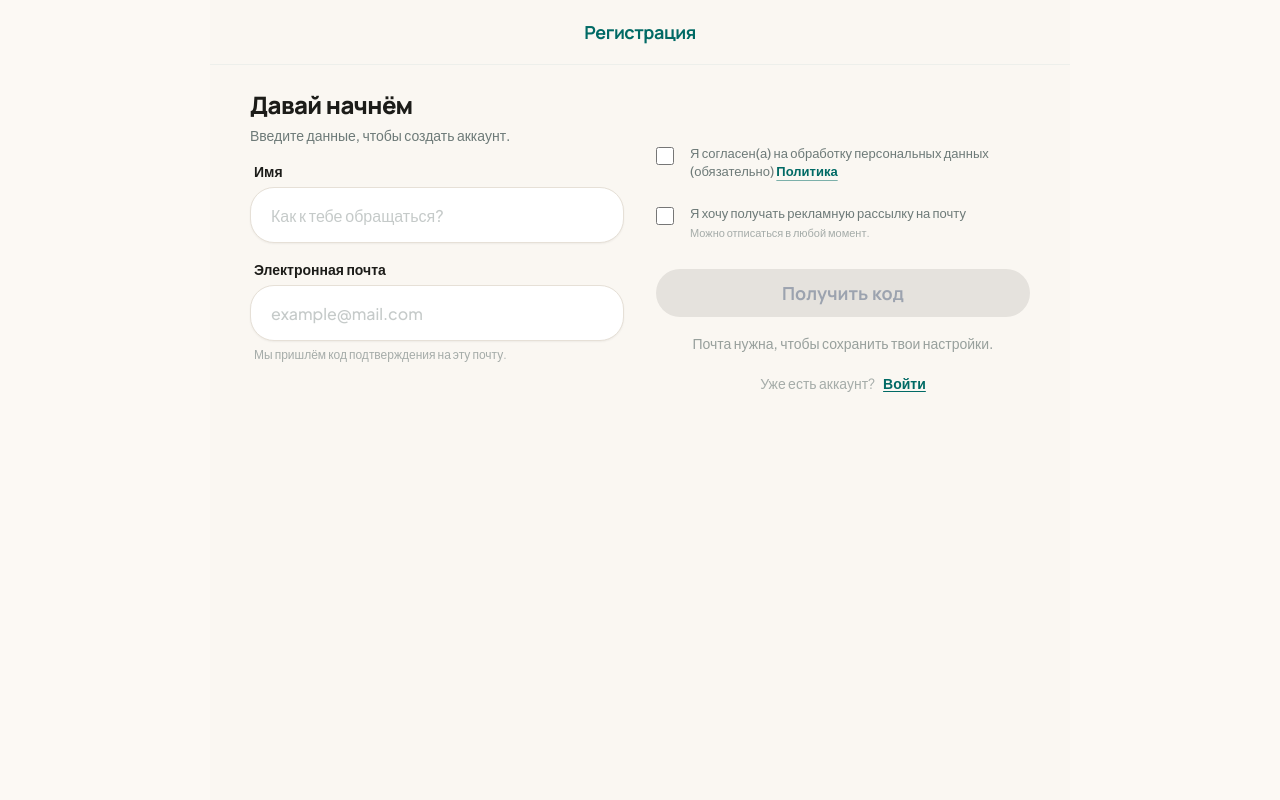
Test: RegistrationPage Android registration flow › explains how to enter the existing owner test account
In the field labelled "Электронная почта": (437, 313) [250,285,624,341], type "MUKANISKANDER01@gmail.com"
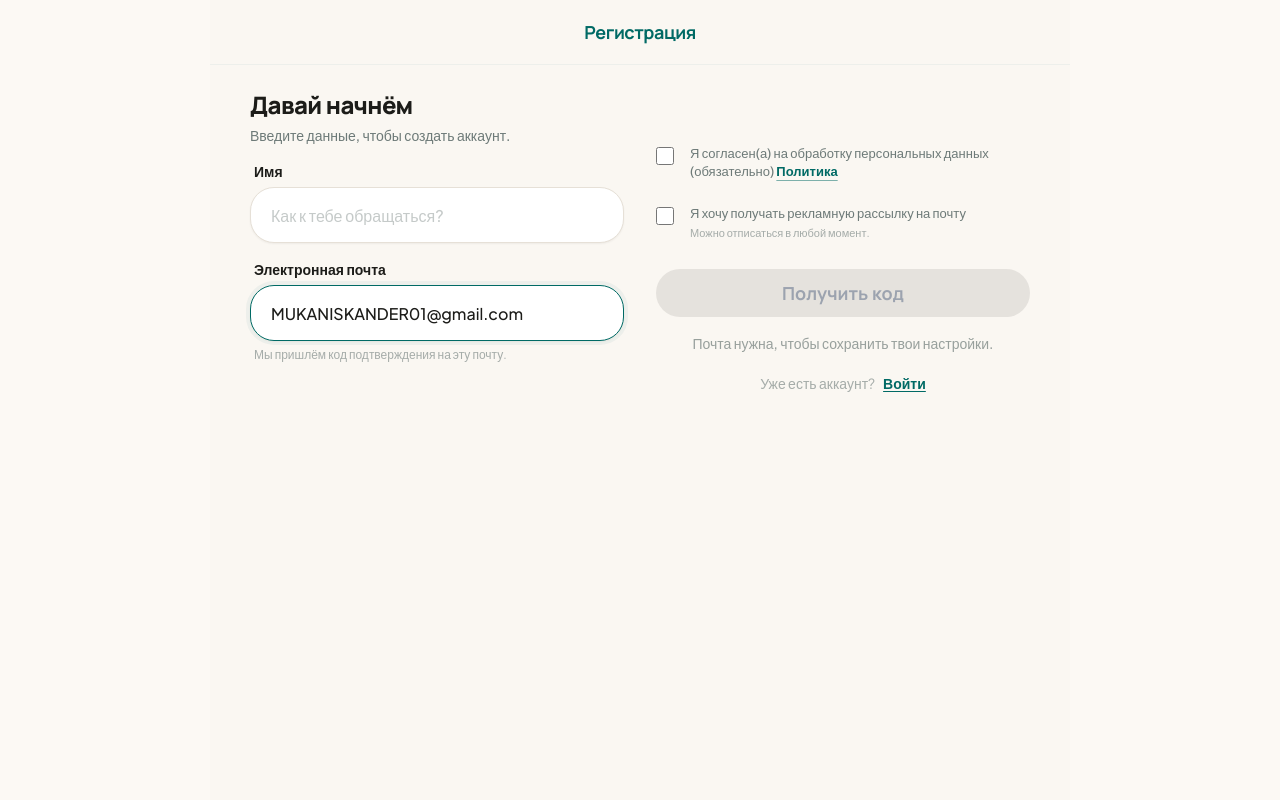
Click the checkbox labelled "Я согласен": click(665, 156) [656,147,674,165]
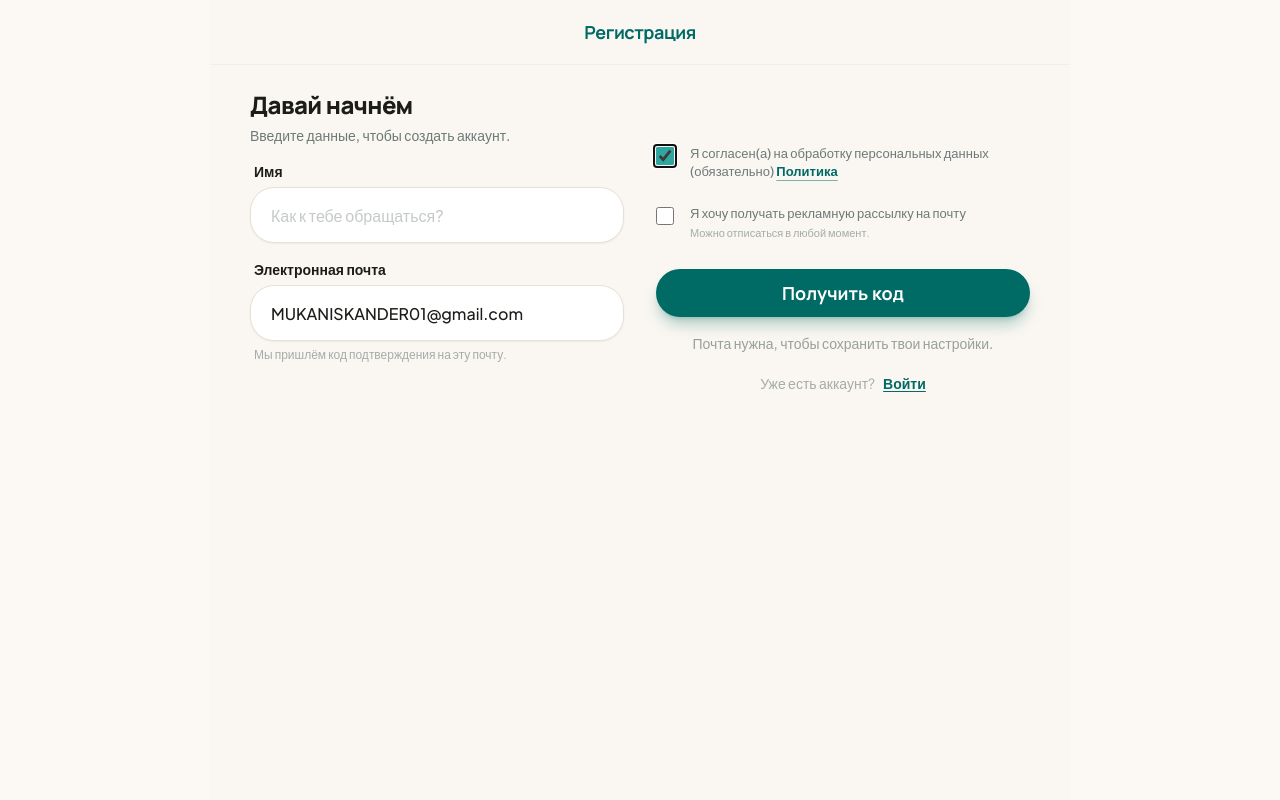
Click the button "Получить код": click(843, 293) [656,269,1030,317]
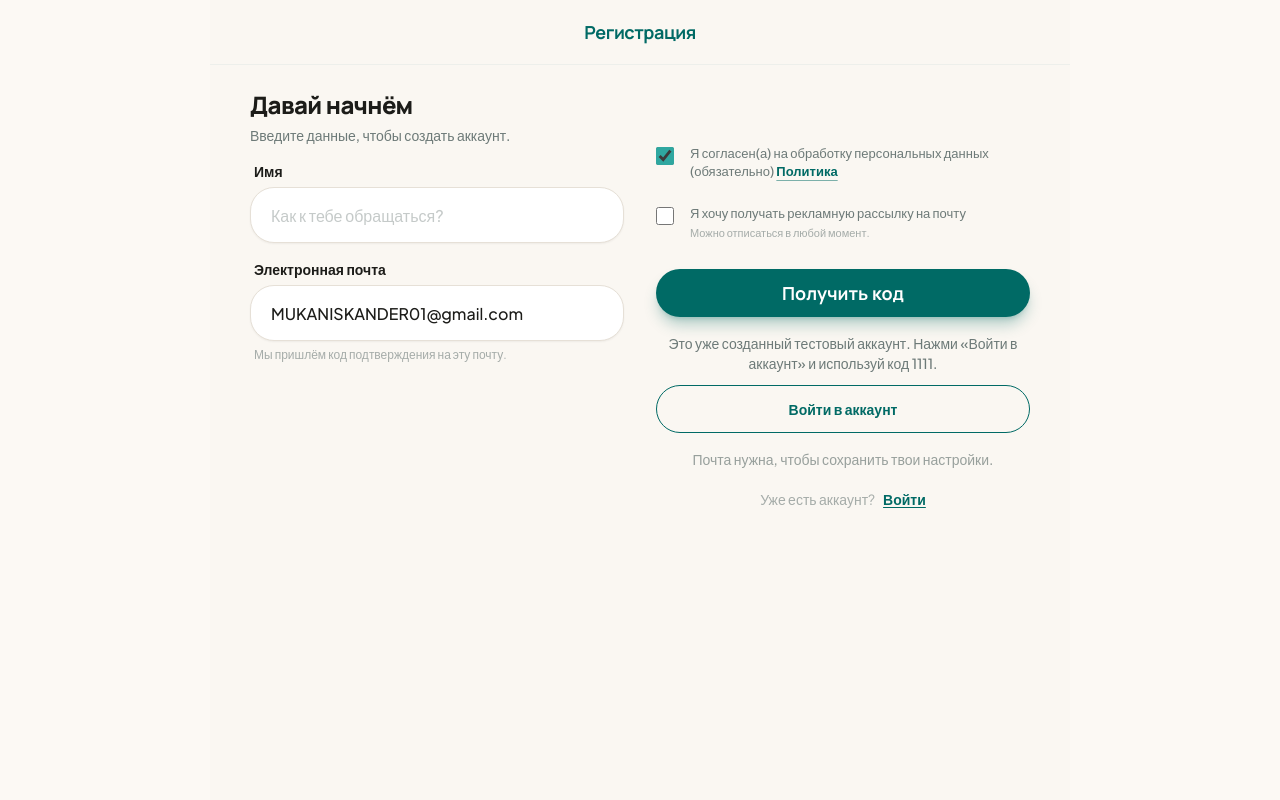
Expected: the text "Это уже созданный тестовый аккаунт. Нажми «Войти в аккаунт» и используй код 1111." is shown, [668,334,1018,372]
Expected: the button "Войти в аккаунт" is shown, [656,385,1030,433]
